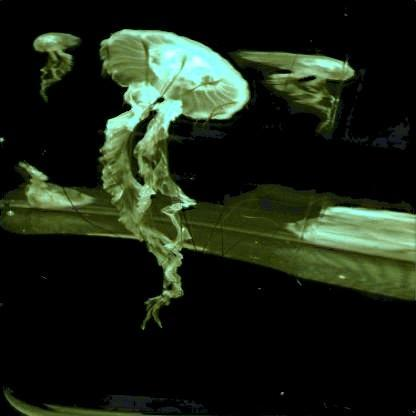Mosaic: (97, 29, 253, 333), (238, 51, 356, 129), (17, 159, 93, 213), (34, 33, 86, 99)
